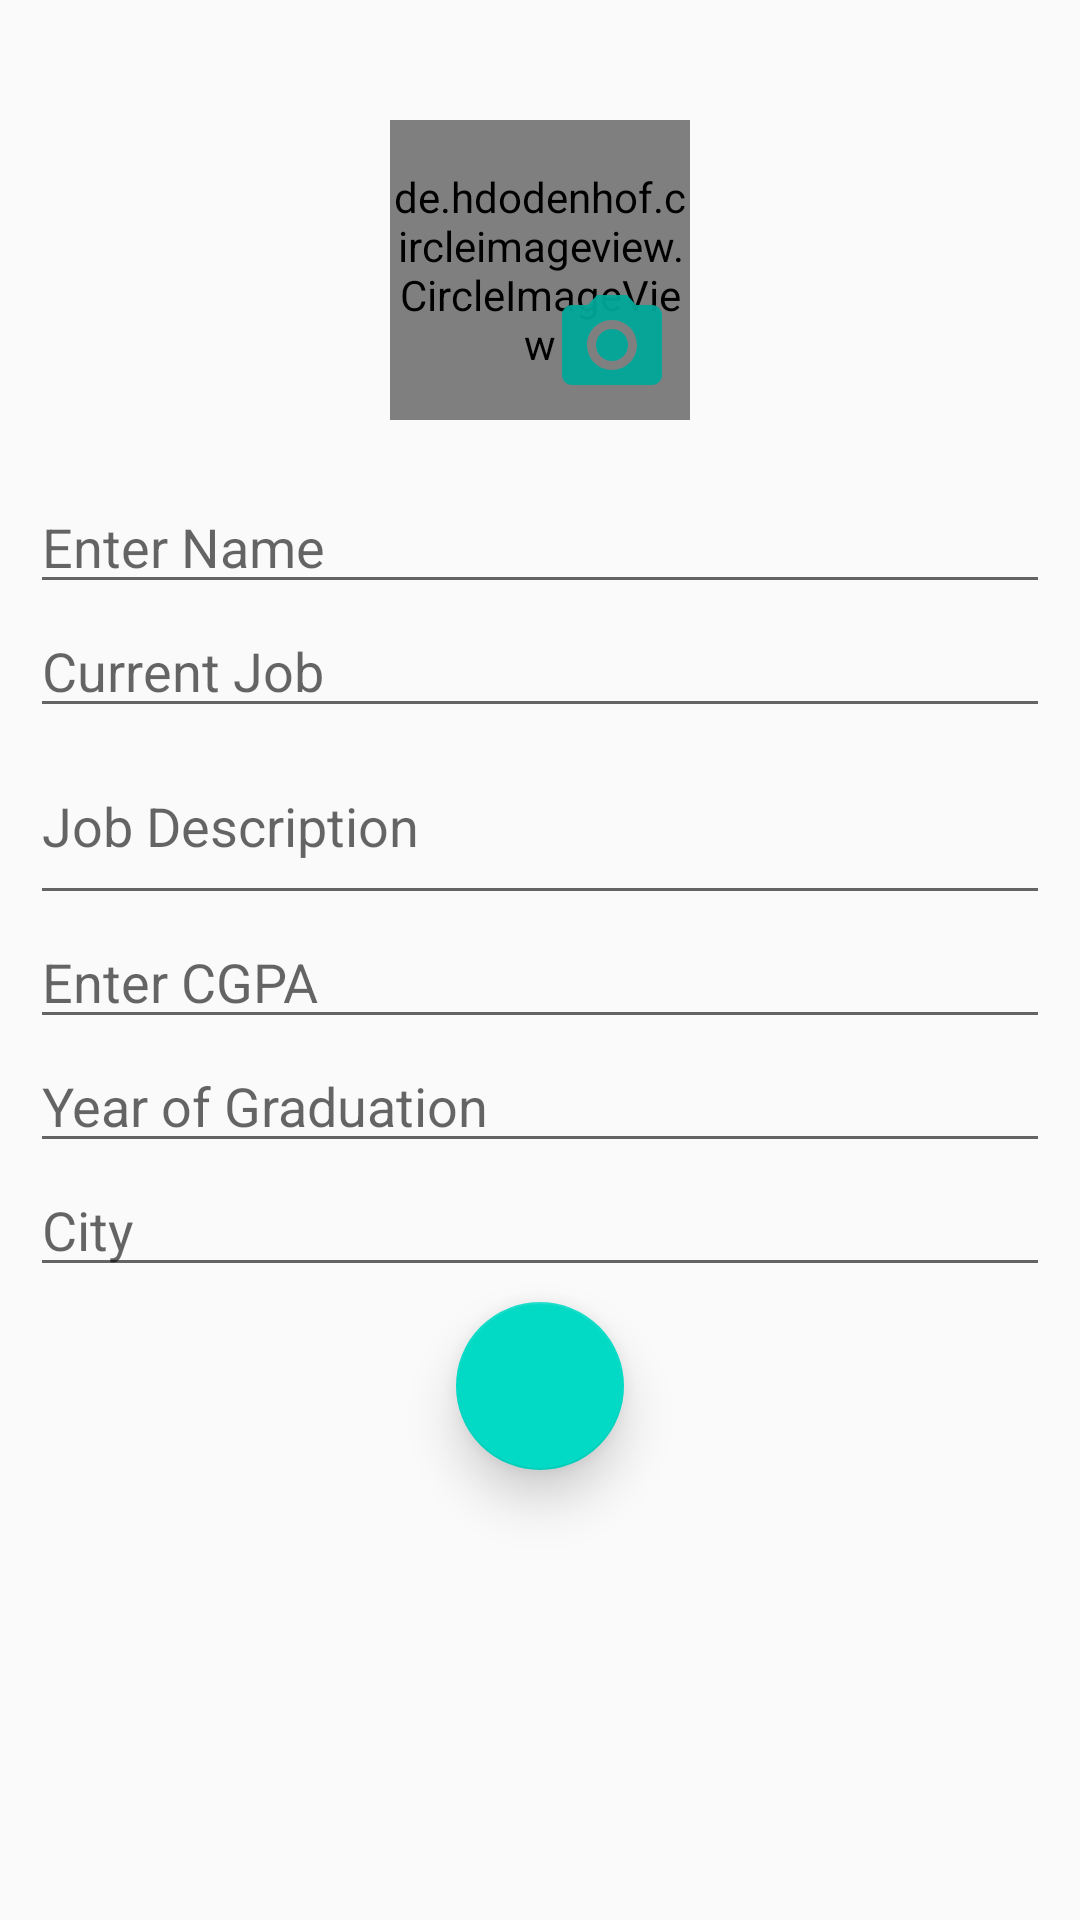

Point at icon controls on the screen. Image size 1080x1920, points as [x,y].
photo camera: [608,335]
